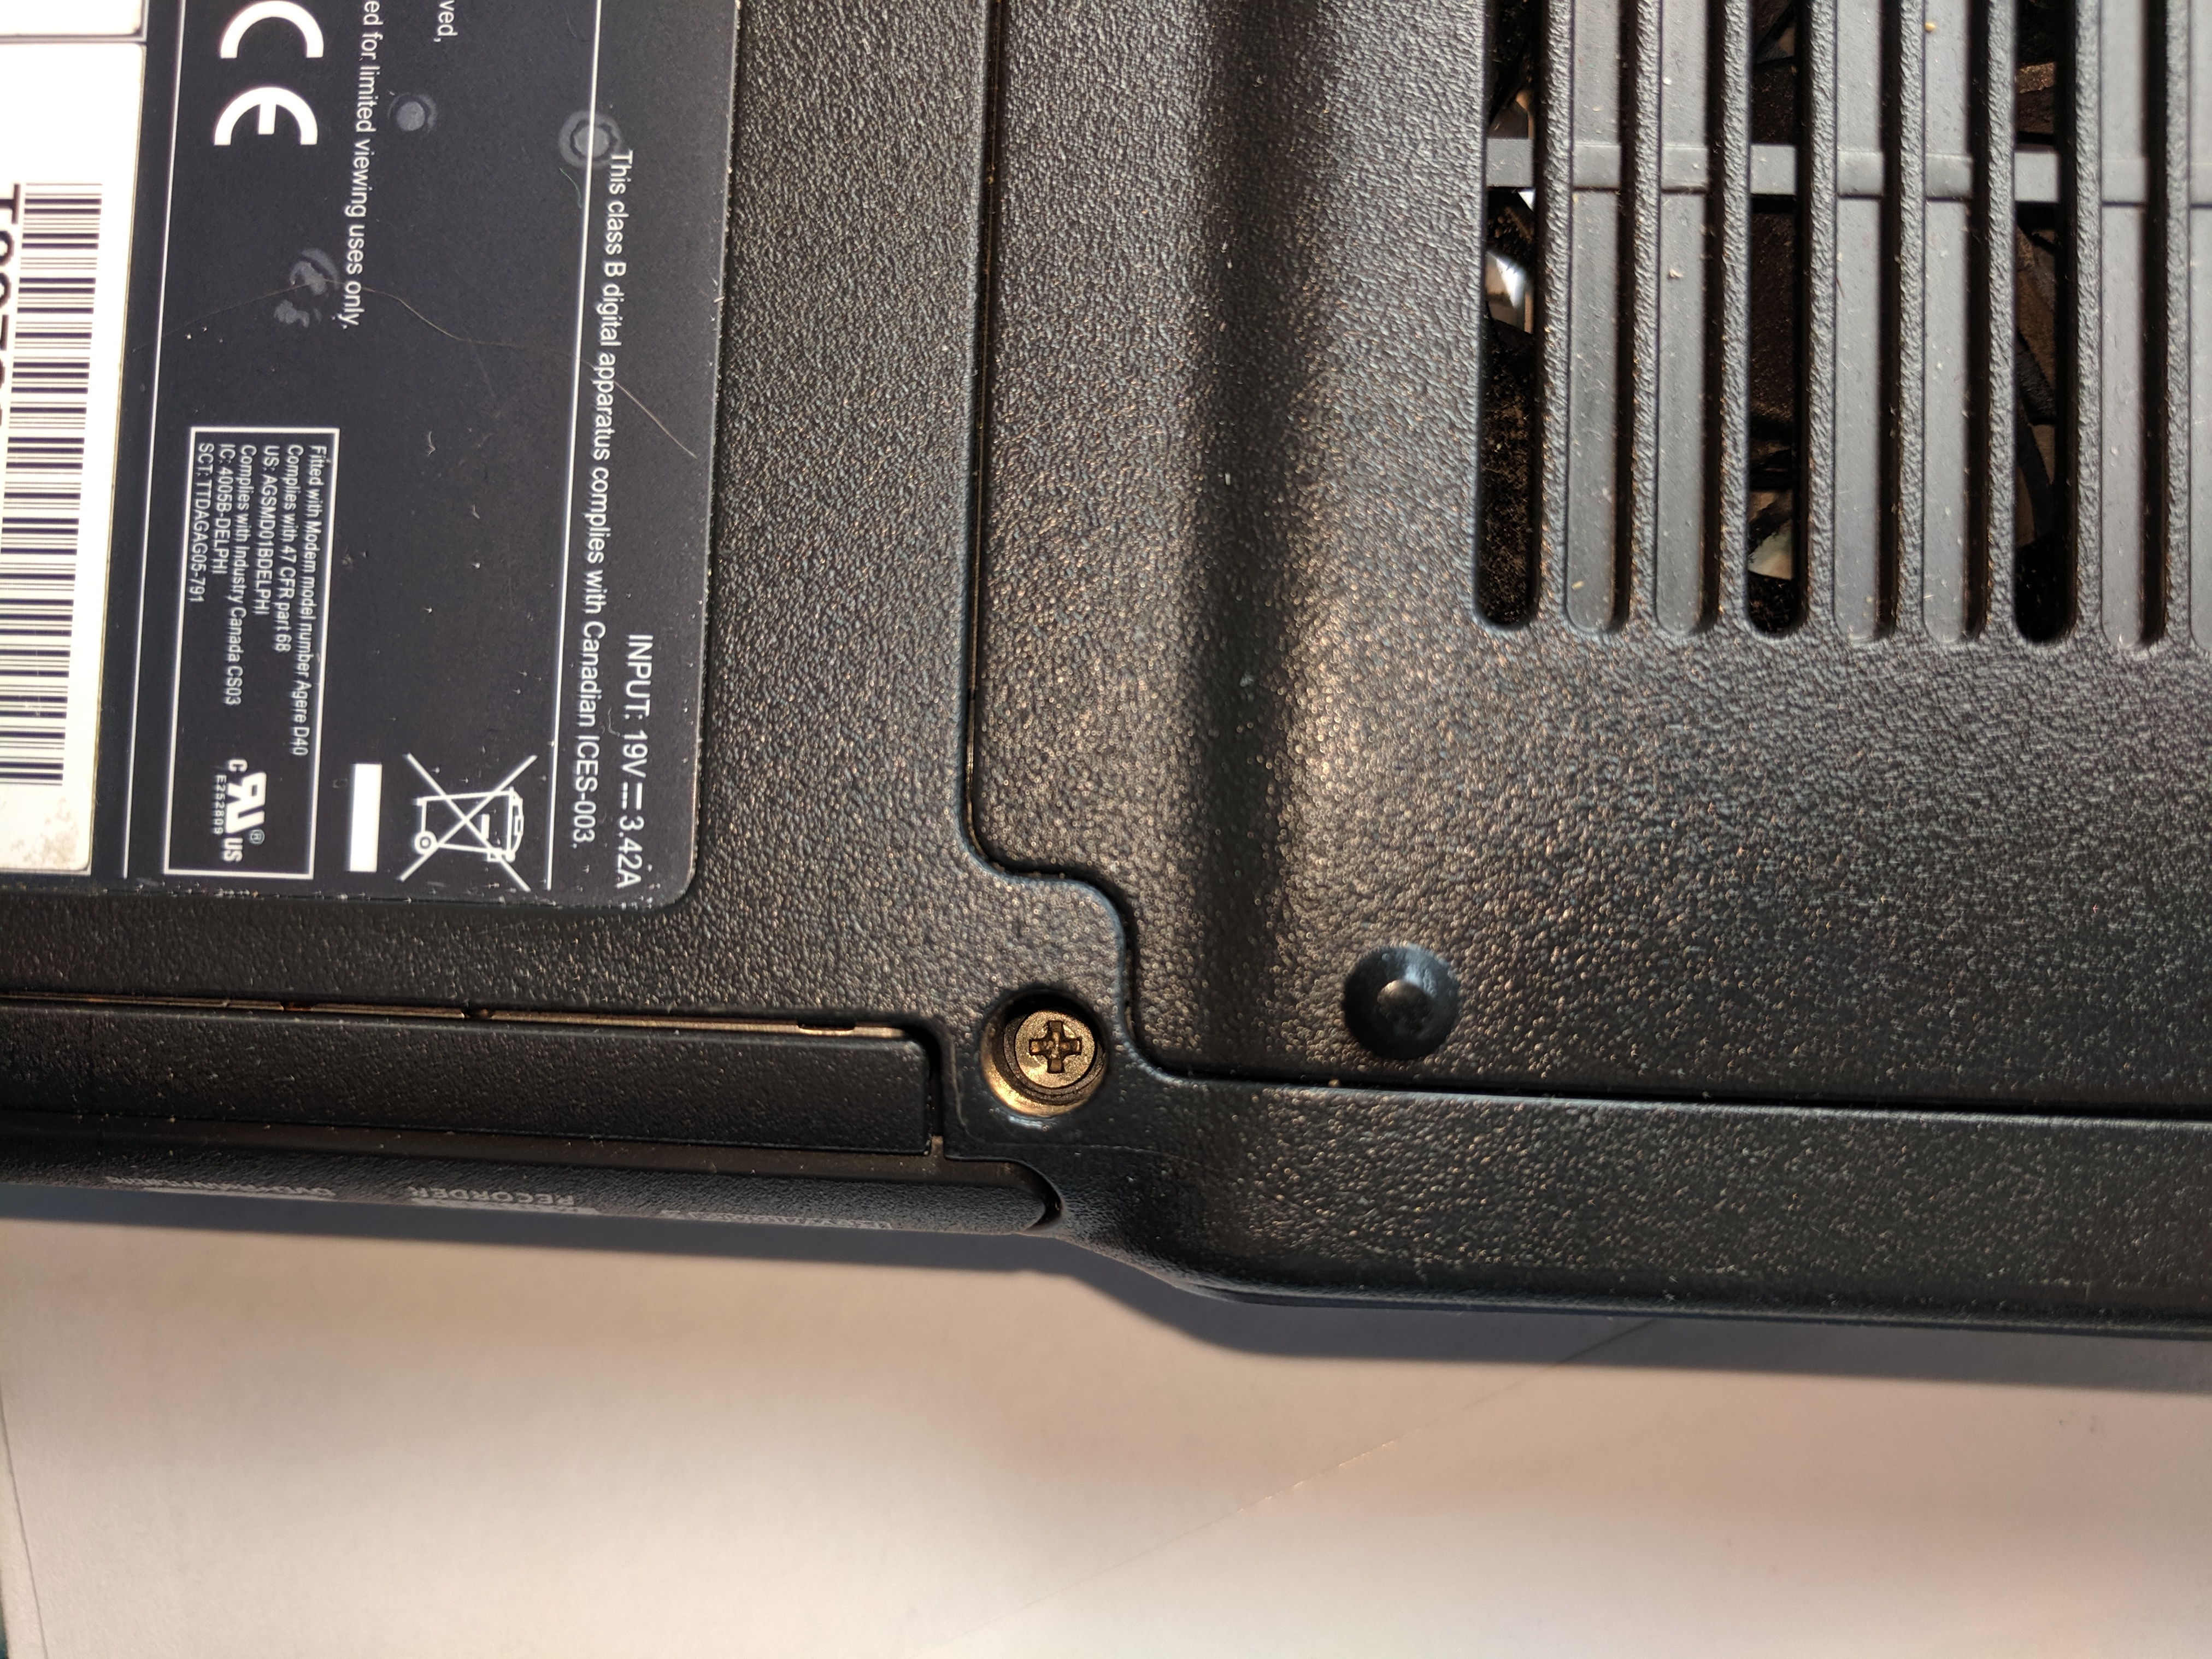cross_recessed_screw: (1000, 983, 1111, 1105)
